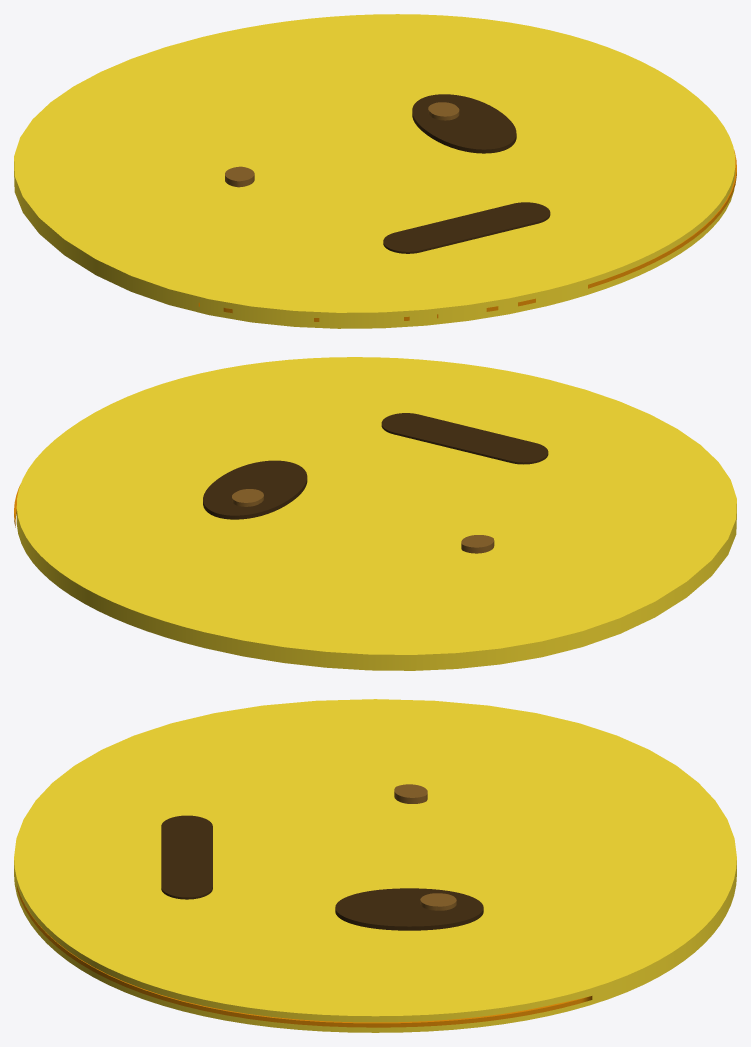
File: emoji_u1f928.glb
The picture shows the model from 3 angles, top to bottom: view 1: azimuth 30°, elevation 25°; view 2: azimuth 150°, elevation 25°; view 3: azimuth 270°, elevation 25°; orthographic projection. The views are drawn at different scales.
Visible parts, largest first — view 1: emoji_u1f928; view 2: emoji_u1f928; view 3: emoji_u1f928.
Part boxes in pixels (x1,y1,x2,y2): emoji_u1f928: [14, 14, 736, 328]; emoji_u1f928: [14, 357, 736, 670]; emoji_u1f928: [14, 699, 736, 1032].
Size of the model in its own units: 0.0327 by 0.0016 by 0.0315.
